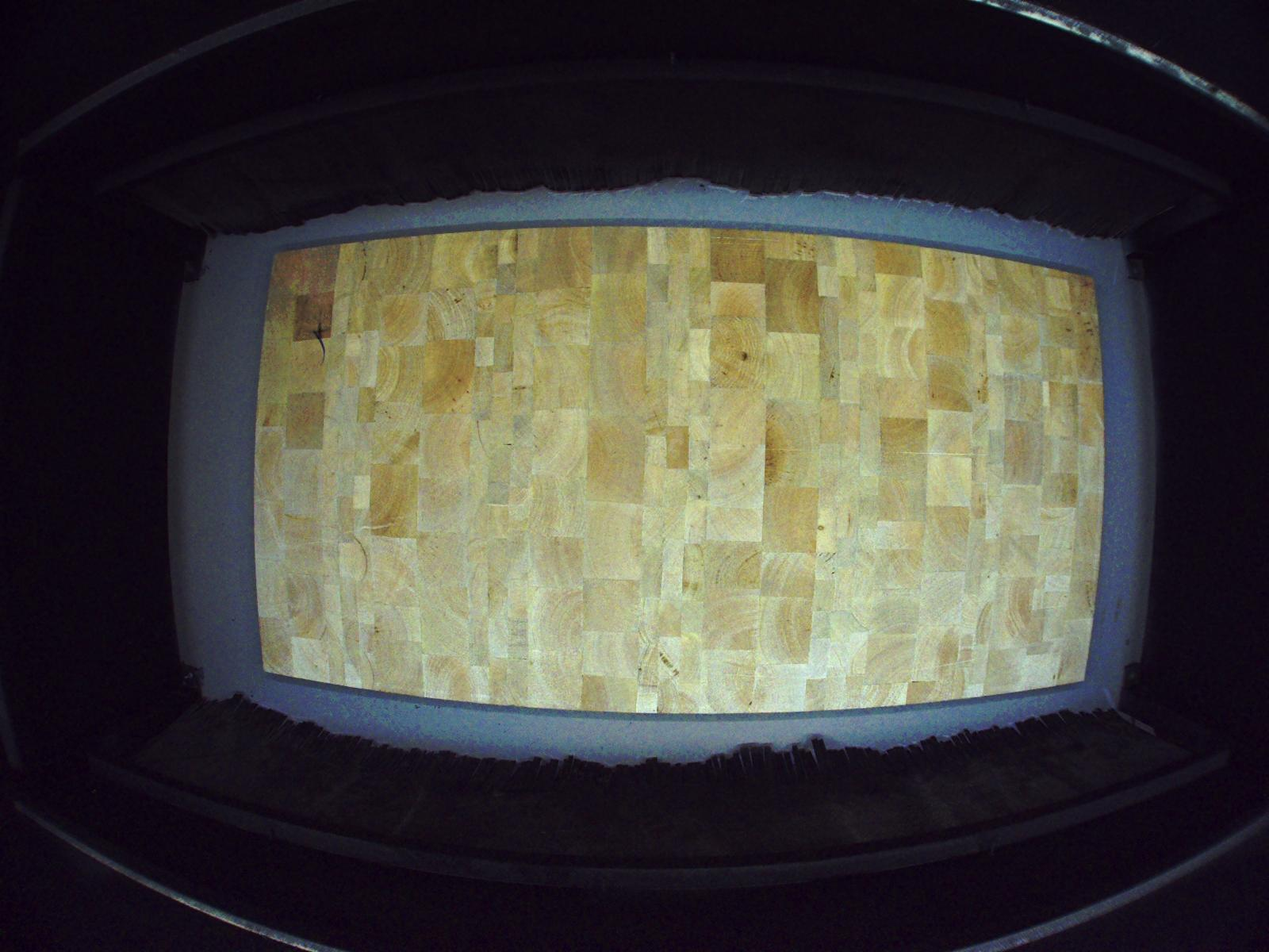sheck_ecuatoriano: (307, 320, 331, 339)
